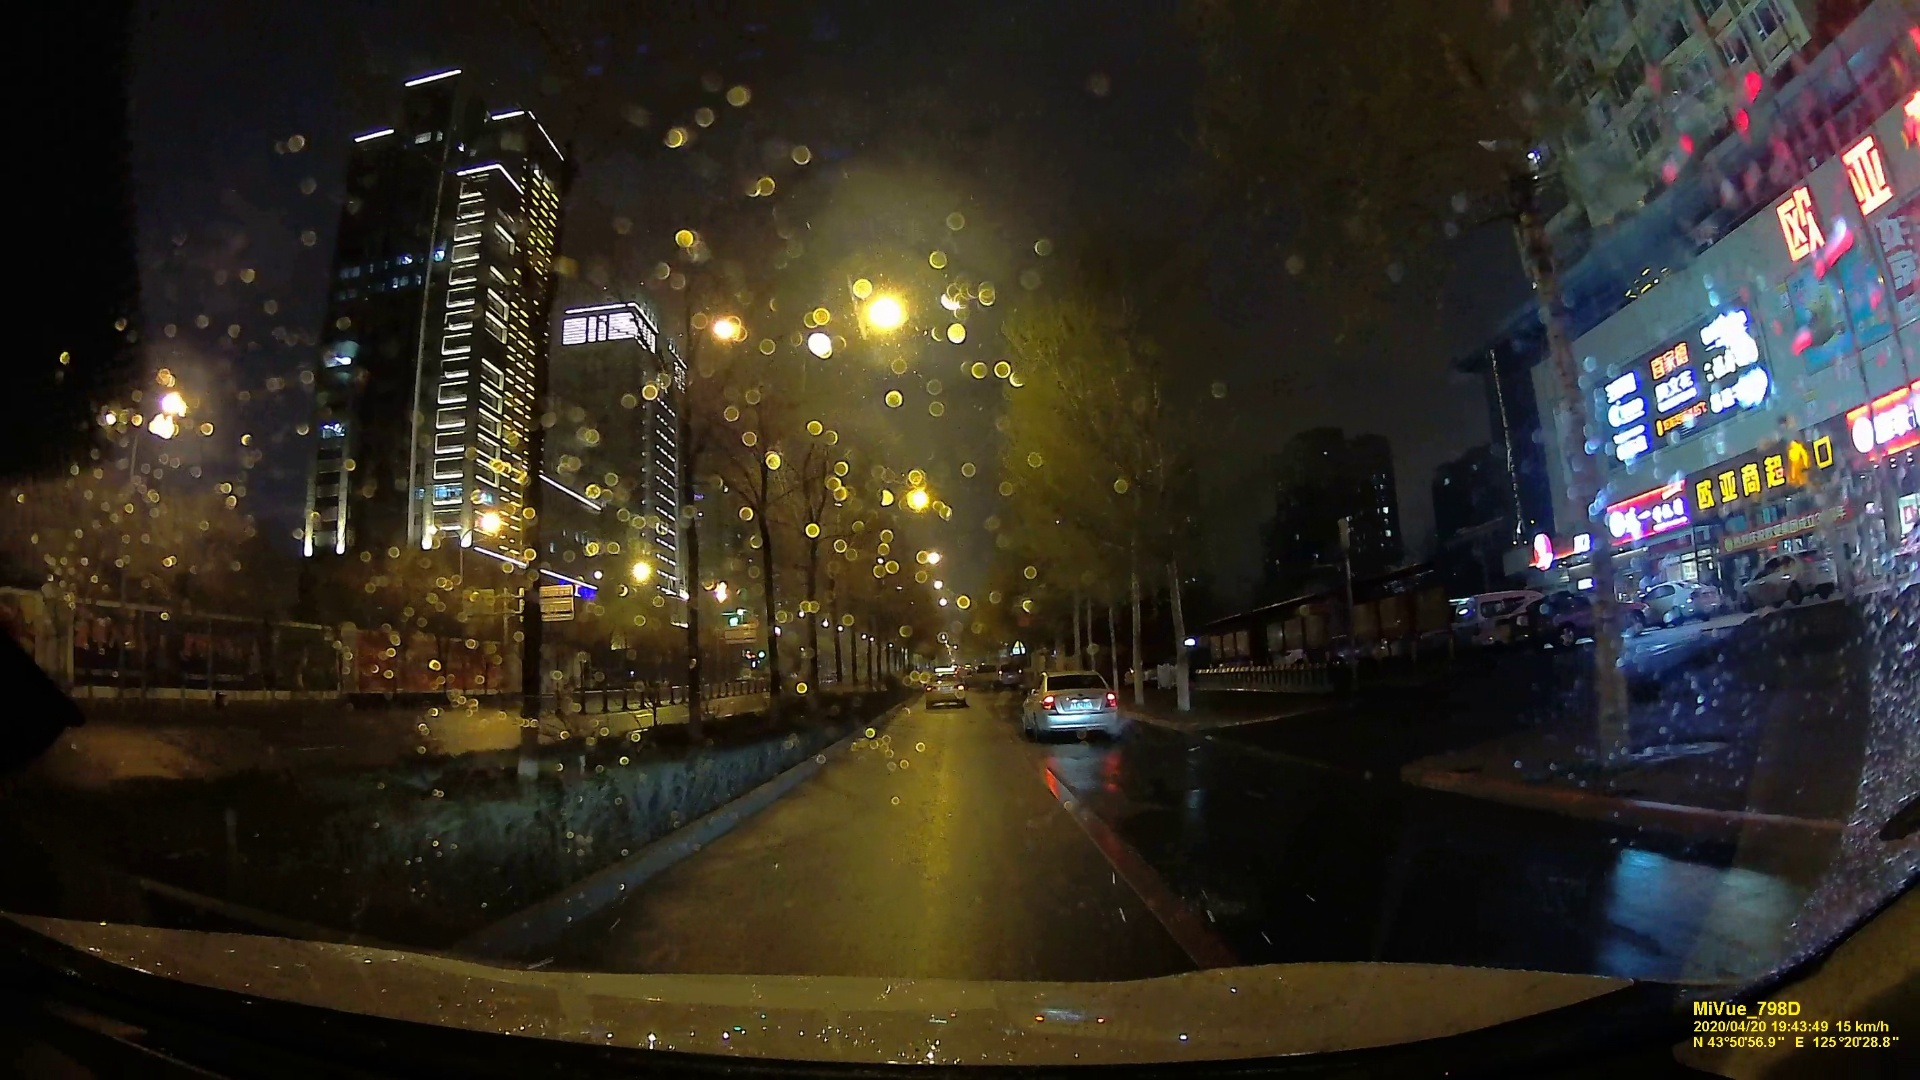vehicle: (1021, 670, 1124, 742), (928, 673, 968, 705)
